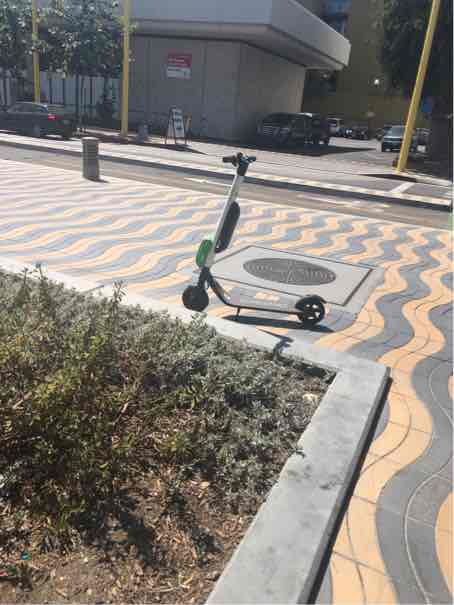scooter: (174, 157, 338, 329)
